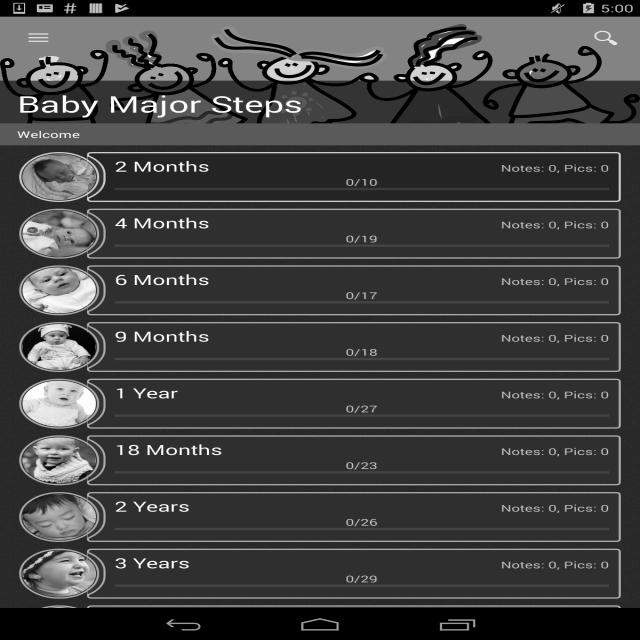ImageButton: (9, 17, 68, 59)
ImageView: (0, 17, 640, 123), (19, 152, 99, 202), (19, 208, 99, 258), (19, 266, 99, 316), (19, 322, 99, 372), (19, 378, 99, 428), (19, 436, 99, 486), (19, 492, 99, 542), (19, 548, 99, 598), (19, 605, 99, 640), (88, 152, 106, 202), (88, 208, 106, 258), (88, 266, 106, 316), (88, 322, 106, 372), (88, 378, 106, 428), (88, 436, 106, 486), (88, 492, 106, 542), (88, 548, 106, 598), (88, 605, 106, 640)
ProgressBar: (115, 232, 609, 259), (115, 402, 609, 429), (115, 572, 609, 599), (115, 176, 609, 202), (115, 289, 609, 315), (115, 346, 609, 372), (115, 459, 609, 485), (115, 516, 609, 542)
TextView: (0, 124, 640, 146), (111, 232, 614, 256), (111, 289, 614, 313), (111, 402, 614, 426), (111, 459, 614, 483), (111, 572, 614, 596), (111, 176, 614, 199), (111, 346, 614, 369), (111, 516, 614, 539), (110, 218, 609, 231), (110, 275, 609, 288), (110, 388, 609, 401), (110, 445, 609, 458), (110, 558, 609, 571), (110, 162, 609, 174), (110, 332, 609, 344), (110, 502, 609, 514), (115, 326, 264, 346), (115, 496, 264, 516), (115, 157, 264, 176), (115, 270, 264, 289), (115, 383, 264, 402), (115, 440, 264, 459), (115, 214, 264, 232), (115, 554, 264, 572), (580, 22, 632, 54)
